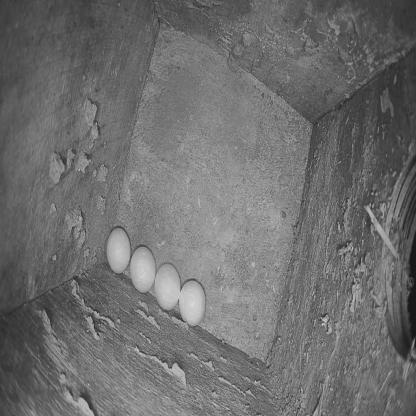Ball: (154, 262, 181, 309), (178, 280, 205, 326), (107, 226, 131, 276), (130, 249, 154, 290)
